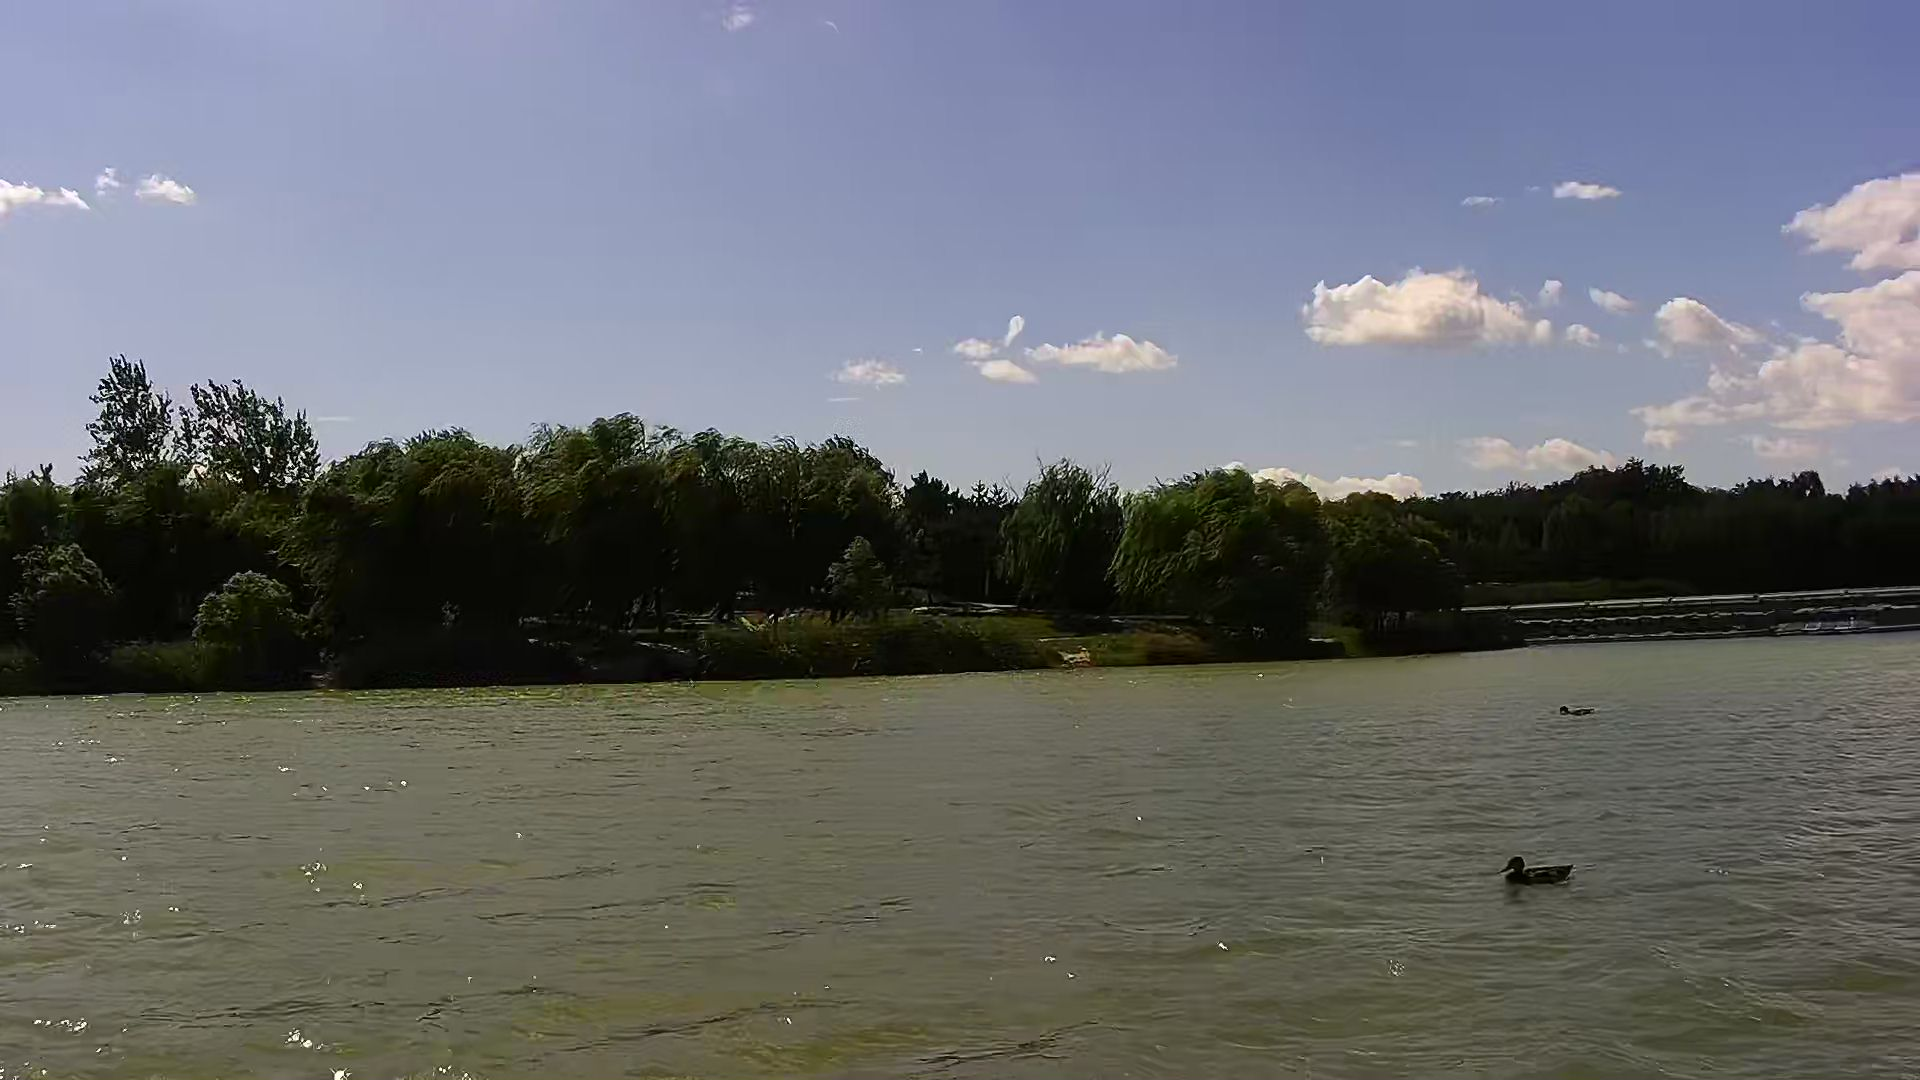animal: (1501, 855, 1575, 897), (1553, 702, 1600, 720)
harbor: (1519, 583, 1915, 638)
rock: (1060, 646, 1088, 669)
